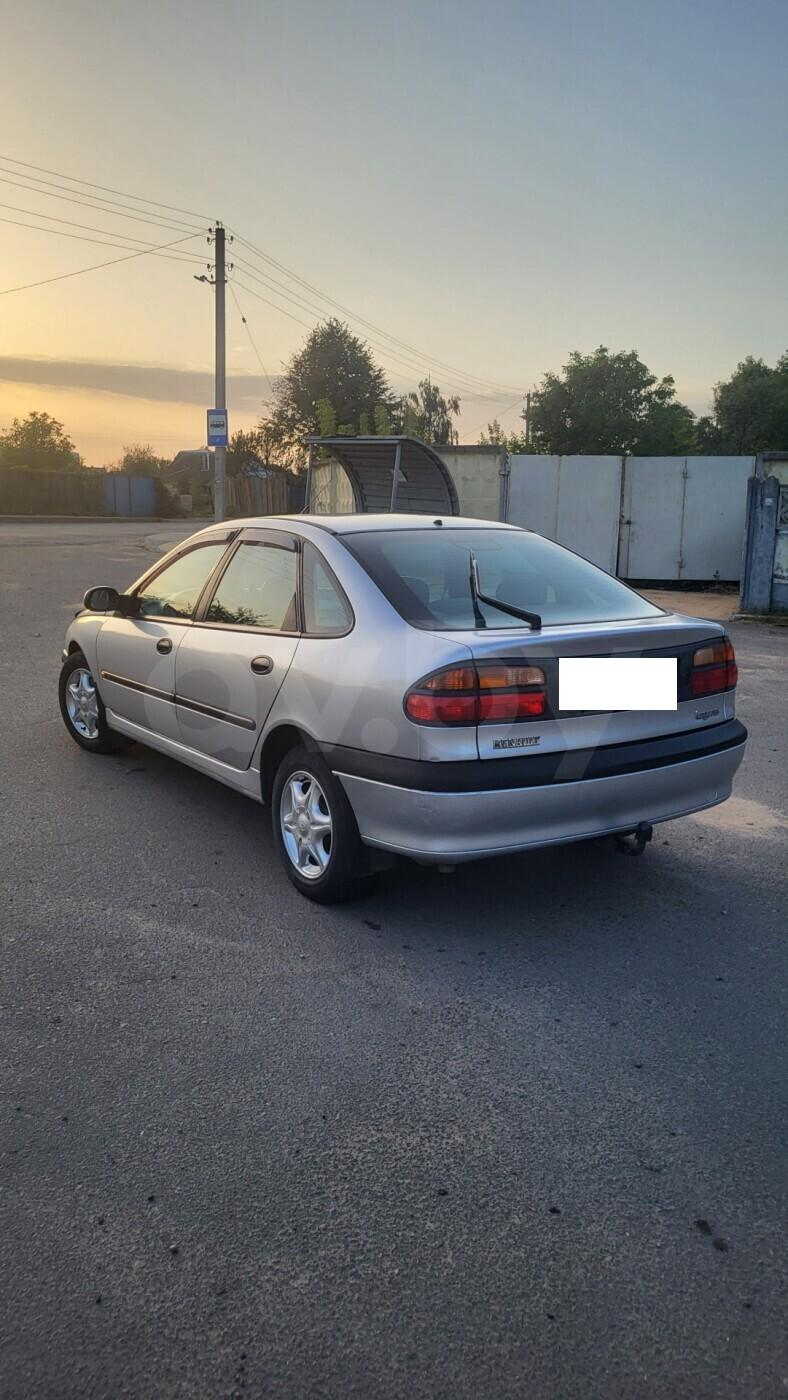Laguna_1998-2001: (62, 504, 756, 918)
